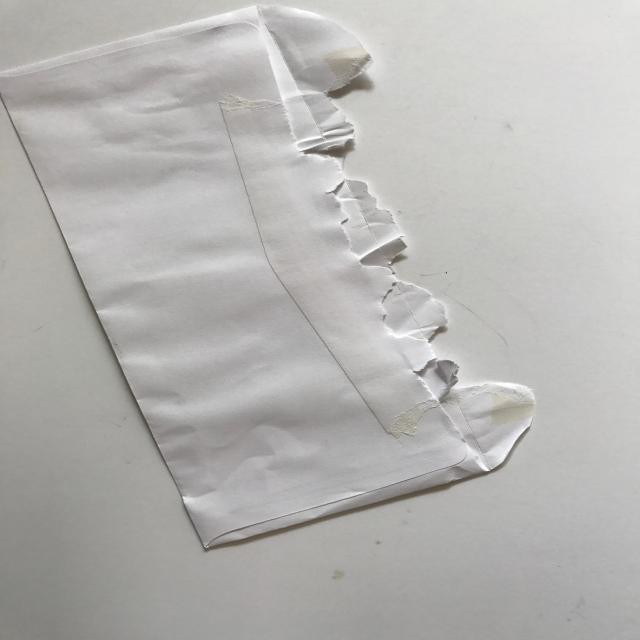paper: (0, 4, 538, 552)
